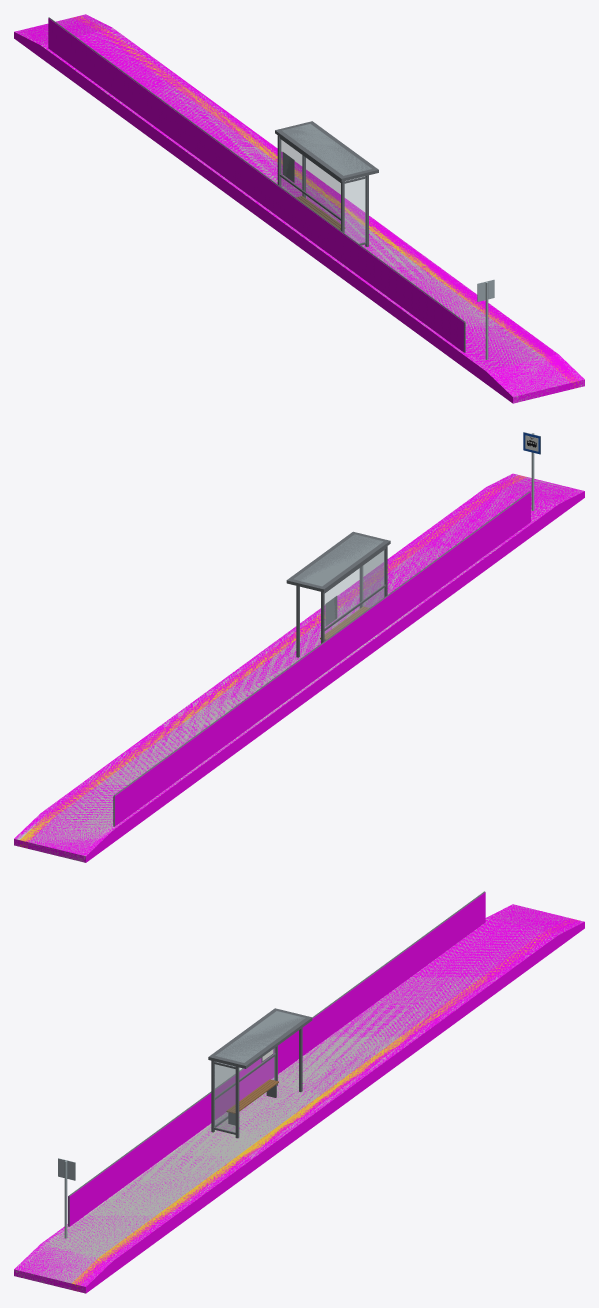
Rendered from PT_TramStop_Platform_30m.fbx.
3 renders of one model, top to bottom at view 1: azimuth 30°, elevation 25°; view 2: azimuth 150°, elevation 25°; view 3: azimuth 330°, elevation 25°, orthographic.
Visible parts, largest first — view 1: COL_Platform, COL_Railing, Platform_Top, Shelter_Glass, Platform_Tactile, Shelter_Roof, Shelter_Roof_Glass, Platform_Curb, Shelter_Frame, Railing; view 2: COL_Platform, COL_Railing, Platform_Top, Platform_Tactile, Platform_Curb, Shelter_Roof, Shelter_Glass, Shelter_Roof_Glass, Shelter_Frame, Railing; view 3: COL_Platform, Platform_Top, COL_Railing, Platform_Tactile, Shelter_Roof, Platform_Curb, Shelter_Glass, Shelter_Roof_Glass, Shelter_Frame, Railing.
Boxes of the visible parts, x1,y1,x2,y2 form: COL_Platform: (14,14,584,403); COL_Railing: (48,18,463,352); Platform_Top: (22,18,570,401); Shelter_Glass: (280,139,365,243); Platform_Tactile: (72,16,579,388); Shelter_Roof: (275,121,378,181); Shelter_Roof_Glass: (282,124,371,175); Platform_Curb: (16,15,584,402); Shelter_Frame: (277,135,368,246); Railing: (48,17,465,352); COL_Platform: (14,473,584,862); COL_Railing: (115,492,530,826); Platform_Top: (28,477,576,861); Platform_Tactile: (19,475,526,848); Platform_Curb: (14,474,583,862); Shelter_Roof: (286,531,390,592); Shelter_Glass: (325,550,384,640); Shelter_Roof_Glass: (294,534,383,586); Shelter_Frame: (296,546,387,657); Railing: (113,491,530,826); COL_Platform: (14,904,584,1293); Platform_Top: (20,906,569,1289); COL_Railing: (68,892,485,1226); Platform_Tactile: (72,918,578,1291); Shelter_Roof: (208,1008,312,1068); Platform_Curb: (14,904,583,1292); Shelter_Glass: (214,1048,275,1132); Shelter_Roof_Glass: (216,1011,304,1062); Shelter_Frame: (211,1028,302,1138); Railing: (68,891,484,1226).
Size of the model in its own units: 2.5 by 2.97 by 30.
